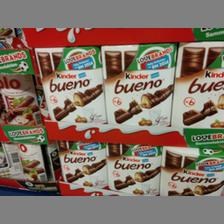Schokolade: (99, 44, 172, 124), (34, 44, 106, 124), (171, 44, 223, 128), (159, 146, 223, 196), (54, 138, 106, 188), (106, 143, 158, 193)
